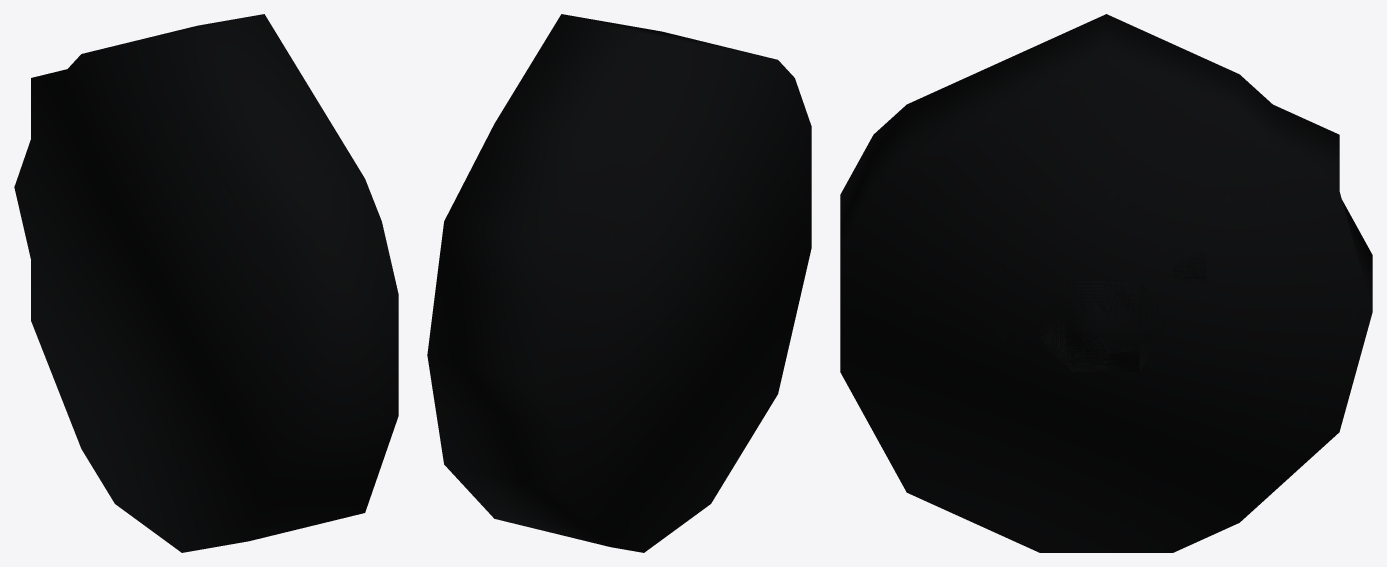
3 renders of one model, left to right at view 1: azimuth 30°, elevation 25°; view 2: azimuth 150°, elevation 25°; view 3: azimuth 270°, elevation 25°, orthographic.
Bounding box in the file's own units: 0.32 × 1.28 × 1.28.
1 material, 1 textured.
